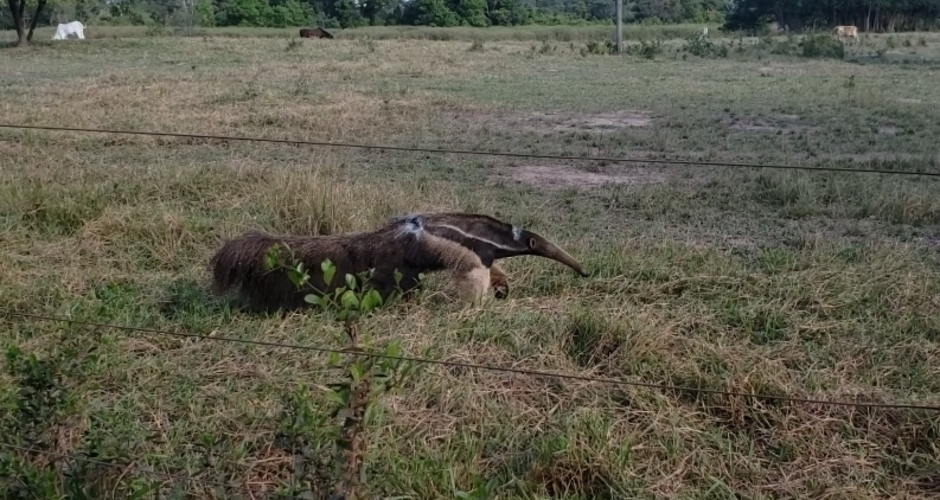TamanduaBandeira: (198, 209, 594, 310)
